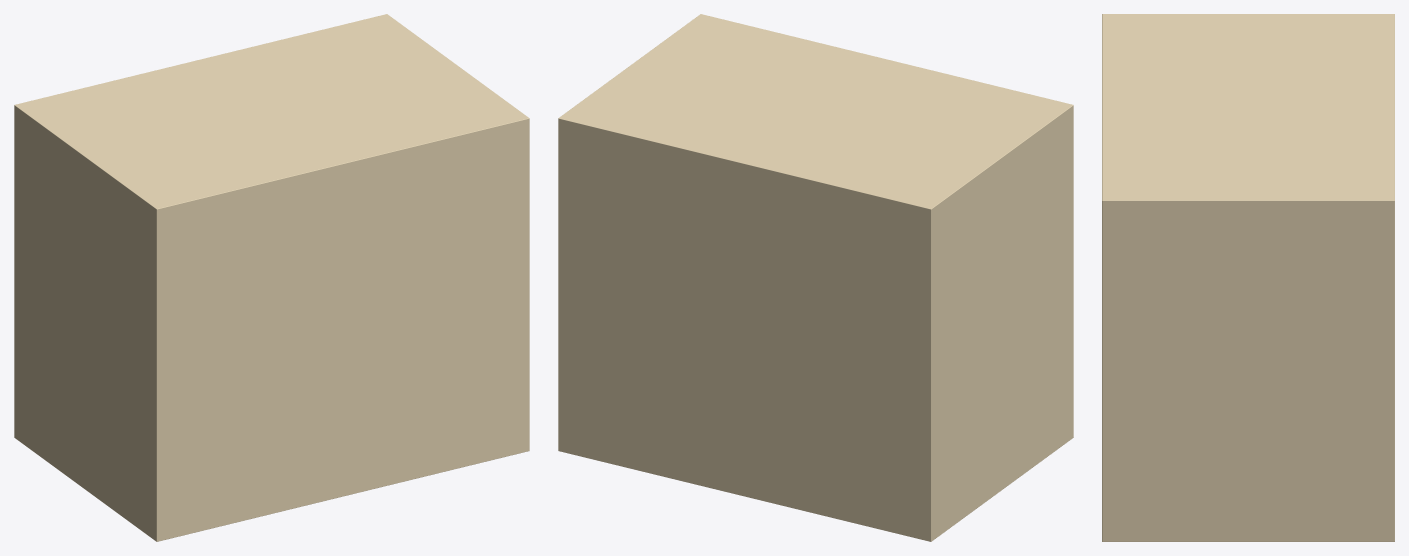
File: Body.dae
The picture shows the model from 3 angles, left to right: view 1: azimuth 30°, elevation 25°; view 2: azimuth 150°, elevation 25°; view 3: azimuth 270°, elevation 25°; orthographic projection. The views are drawn at different scales.
Visible parts, largest first — view 1: tmp_export_Body; view 2: tmp_export_Body; view 3: tmp_export_Body.
Part boxes in pixels (bbox=[...]): tmp_export_Body: bbox=[14, 14, 529, 541]; tmp_export_Body: bbox=[558, 14, 1073, 541]; tmp_export_Body: bbox=[1102, 14, 1394, 541].
Size of the model in its own units: 1.18 by 0.785 by 1.01.
